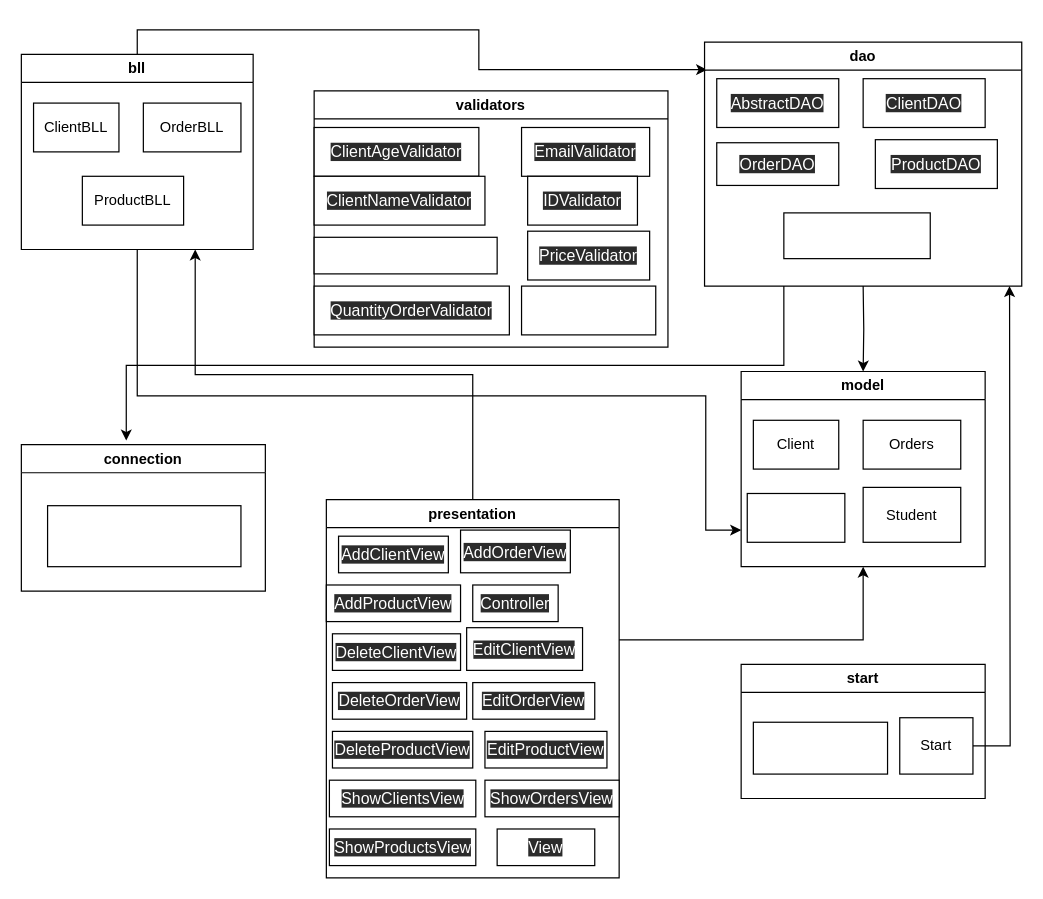
Some shapes in this 1043 by 899 pixel diagram are drawn without their labels. The centre of each missing label's shape, as x and y in pixels:
"ConnectionFactory" goes at point 143,535.
"Product" goes at point 795,517.
"ProductNameValidator" goes at point 405,255.
"QuantityValidator" goes at point 588,310.
"ReflectionExample" goes at point 820,747.
"StudentDAO" goes at point 856,235.
